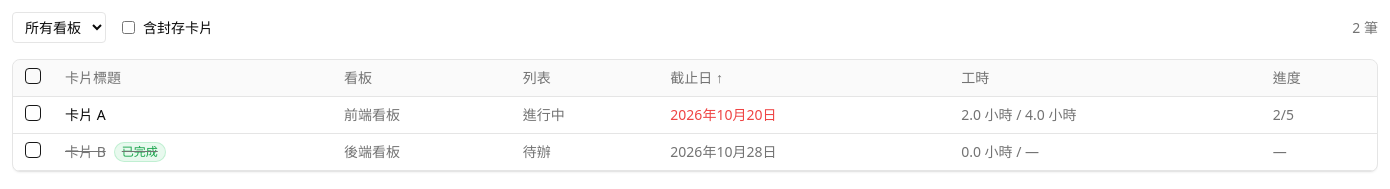
Test: TableTab › filters_by_boardId
Expected: the text "卡片 A" is shown, [65, 105, 106, 125]
Select "後端看板" in the dropdown at (59, 28), box [12, 12, 106, 43]
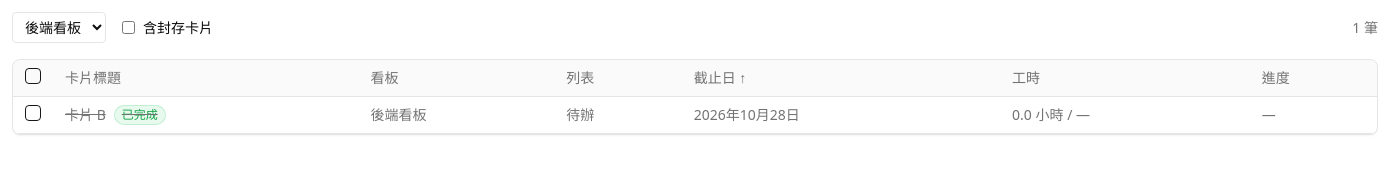
Expected: the text "卡片 B" is shown, [65, 105, 106, 125]
Expected: the text "卡片 A" is gone
